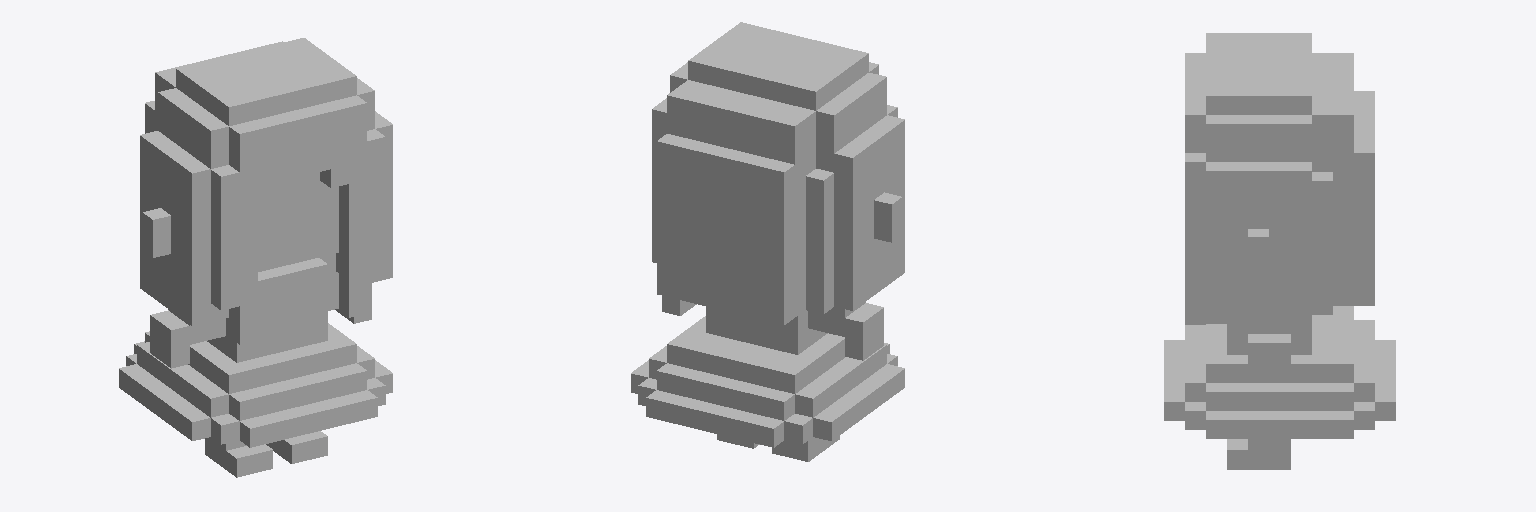
The model's file is girl.obj.
The picture shows the model from 3 angles: view 1: azimuth 30°, elevation 25°; view 2: azimuth 150°, elevation 25°; view 3: azimuth 270°, elevation 25°; orthographic projection.
Size of the model in its own units: 13 by 20 by 11.